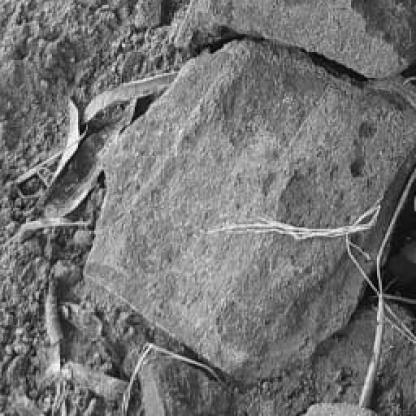cementitious_debris: (1, 1, 413, 413)
